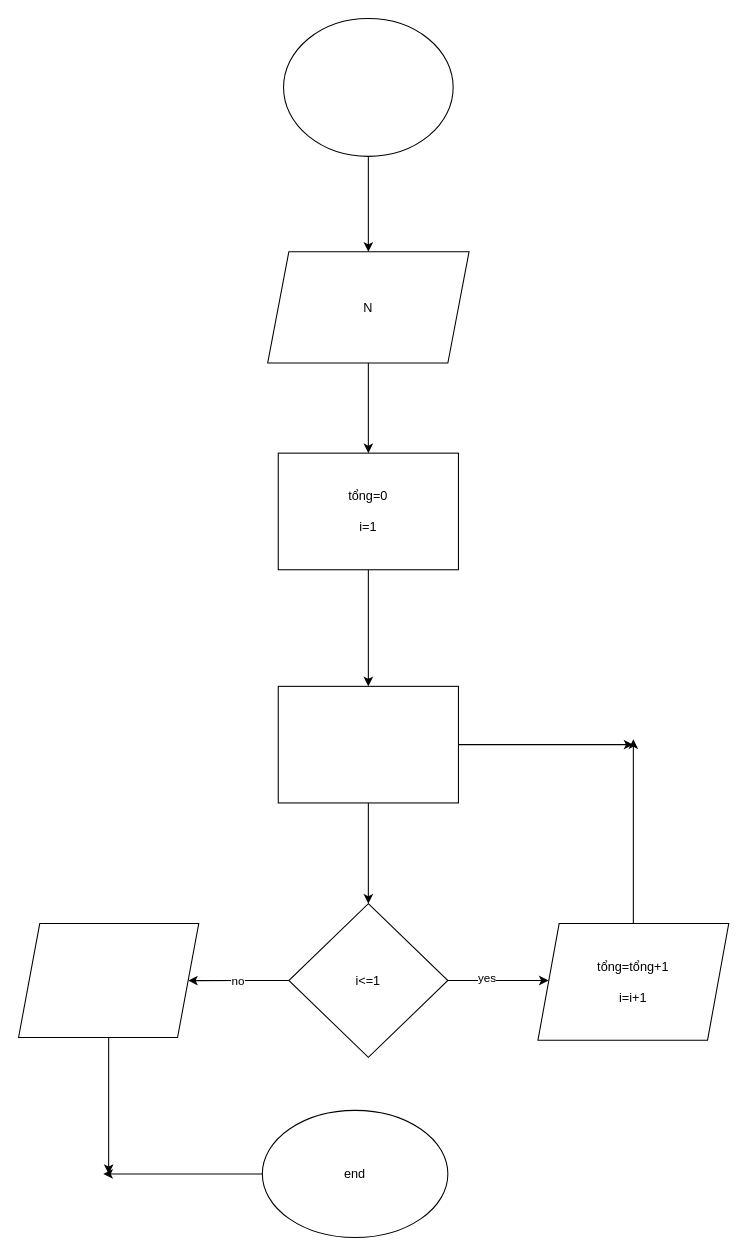
Some shapes in this 747 by 1256 pixel diagram are drawn without their labels. Here are the shapes that lost their labels. From the top down, the centre of each, then its label:
point 367,86: start
point 367,744: kiểm tra
point 108,980: tổng
